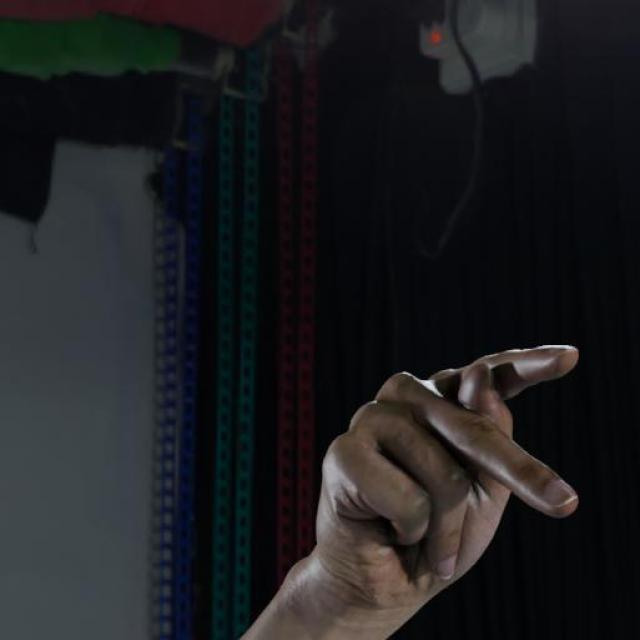P: (309, 337, 586, 614)
